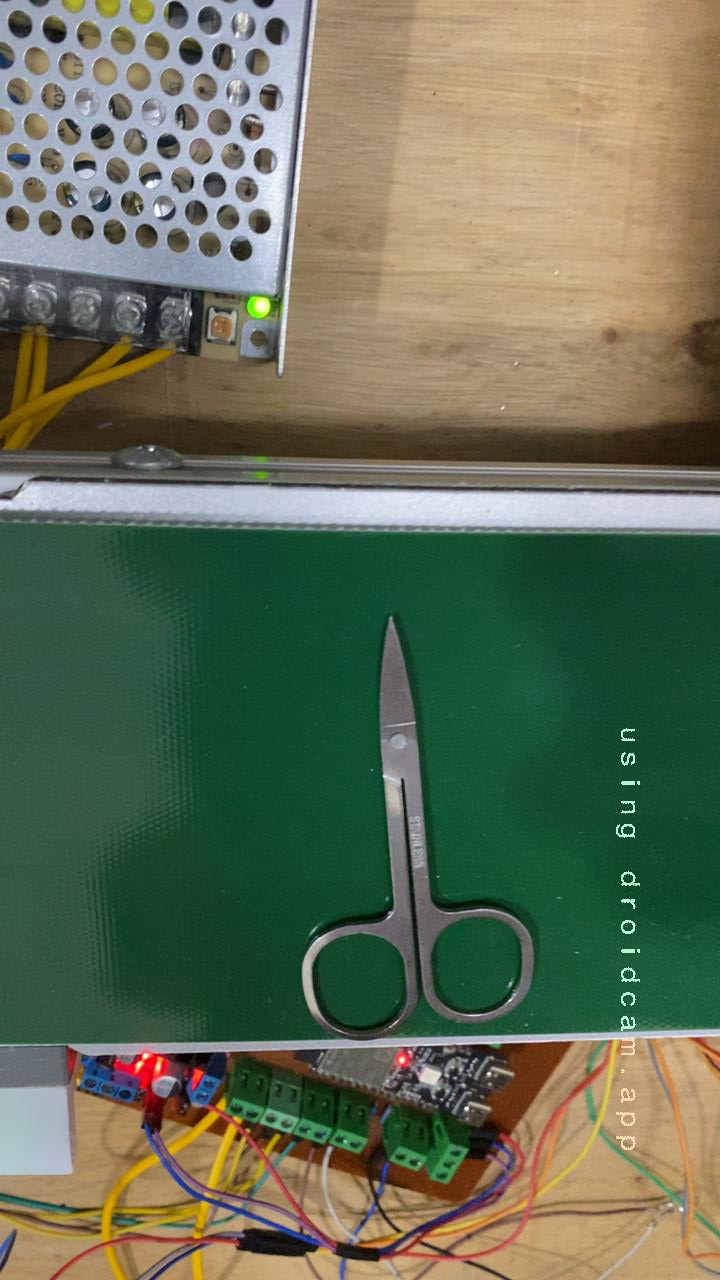scissor: (257, 599, 554, 1061)
